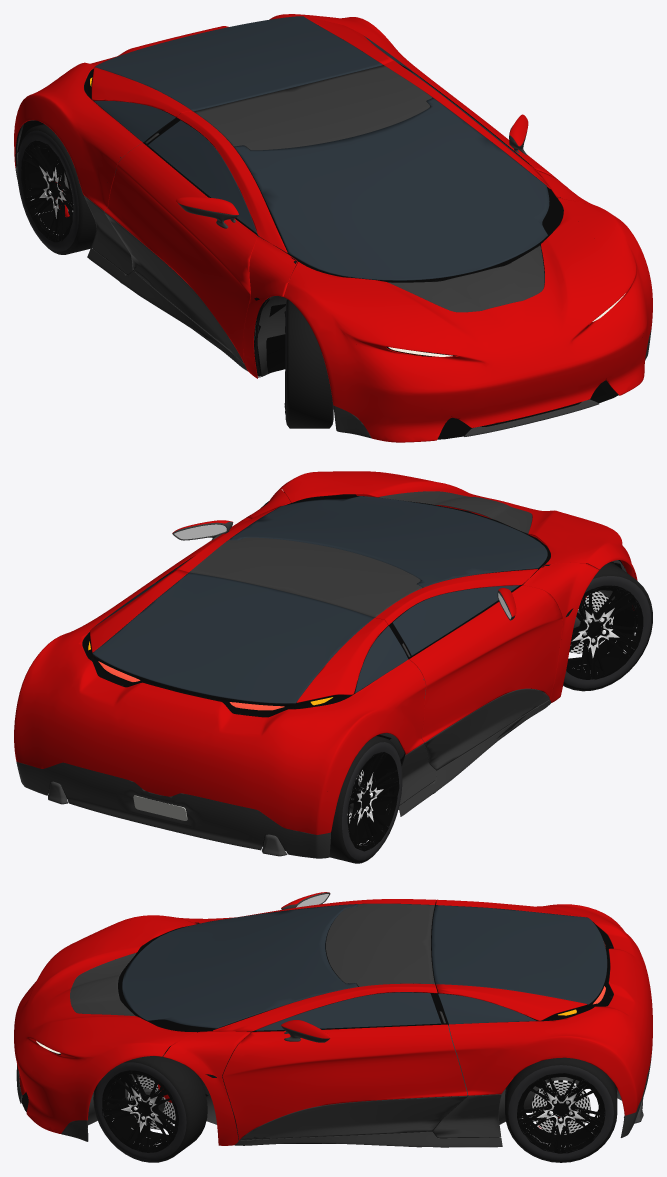
The model's file is car_04_concept.glb.
The picture shows the model from 3 angles, top to bottom: view 1: azimuth 30°, elevation 25°; view 2: azimuth 150°, elevation 25°; view 3: azimuth 270°, elevation 25°; orthographic projection. The views are drawn at different scales.
Visible parts, largest first — view 1: Body, Wheel_RR_mesh, Wheel_FR_mesh; view 2: Body, Wheel_FR_mesh, Wheel_RR_mesh; view 3: Body, Wheel_FL_mesh, Wheel_RL_mesh.
Boxes of the visible parts, bbox=[...] form: Body: bbox=[14, 14, 652, 442]; Wheel_RR_mesh: bbox=[17, 124, 96, 254]; Wheel_FR_mesh: bbox=[284, 299, 333, 428]; Body: bbox=[14, 471, 637, 858]; Wheel_FR_mesh: bbox=[563, 562, 652, 691]; Wheel_RR_mesh: bbox=[329, 736, 402, 863]; Body: bbox=[14, 892, 652, 1147]; Wheel_FL_mesh: bbox=[93, 1054, 207, 1162]; Wheel_RL_mesh: bbox=[505, 1057, 617, 1162].
Size of the model in its own units: 2.54 by 1.15 by 4.36.
Materials: 23 (4 with a texture image).
